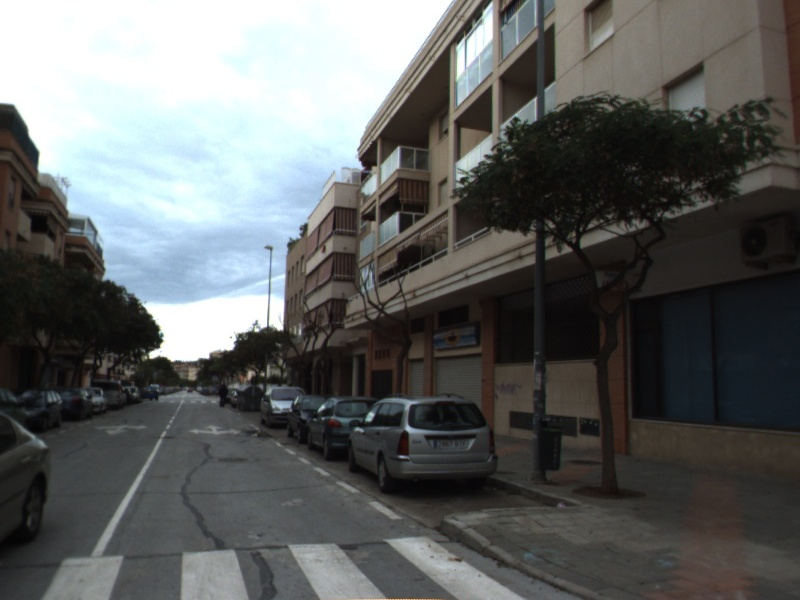STRAIGHT_LEFT_RIGHT: (186, 422, 243, 437)
